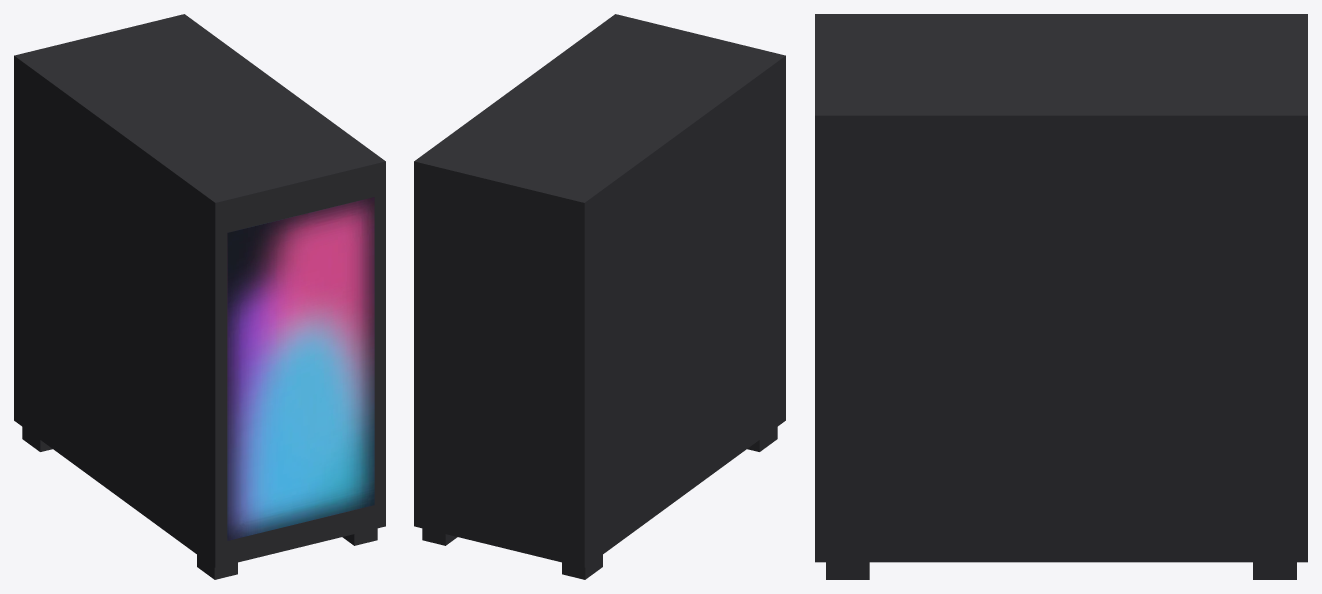
Rendered from obj-gaming-pc.glb.
3 views of the same model, side by side, from view 1: azimuth 30°, elevation 25°; view 2: azimuth 150°, elevation 25°; view 3: azimuth 270°, elevation 25° (orthographic). The views are drawn at different scales.
Parts seen in each view (by area): view 1: obj-gaming-pc; view 2: obj-gaming-pc; view 3: obj-gaming-pc.
Part boxes in pixels (x1,y1,x2,y2): obj-gaming-pc: (14, 14, 385, 579); obj-gaming-pc: (414, 14, 785, 579); obj-gaming-pc: (815, 14, 1307, 579).
Bounding box in the file's own units: 0.22 × 0.47 × 0.4508.
Materials: 2 (1 with a texture image).
